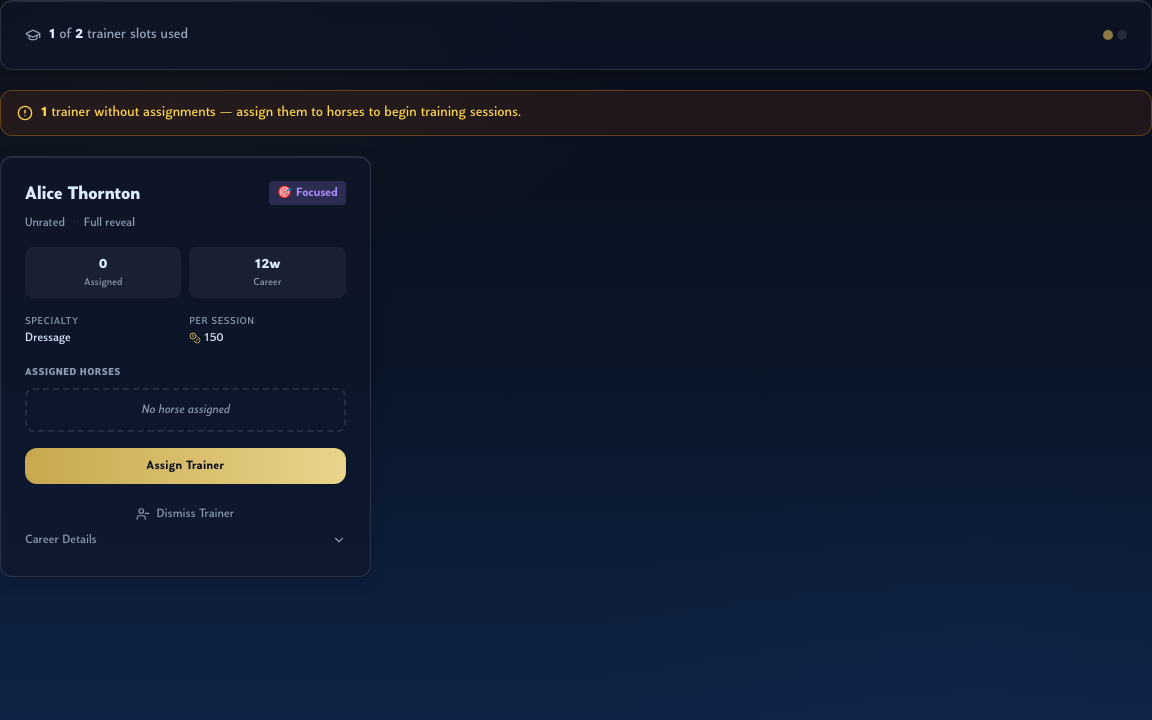
it: MyTrainersDashboard — horse picker (Equoria-gpnck) › a successful empty horses fetch is the honest "No horses available."
Step 1. Click the button "Assign Trainer" → (185, 466), box [25,448,346,484]
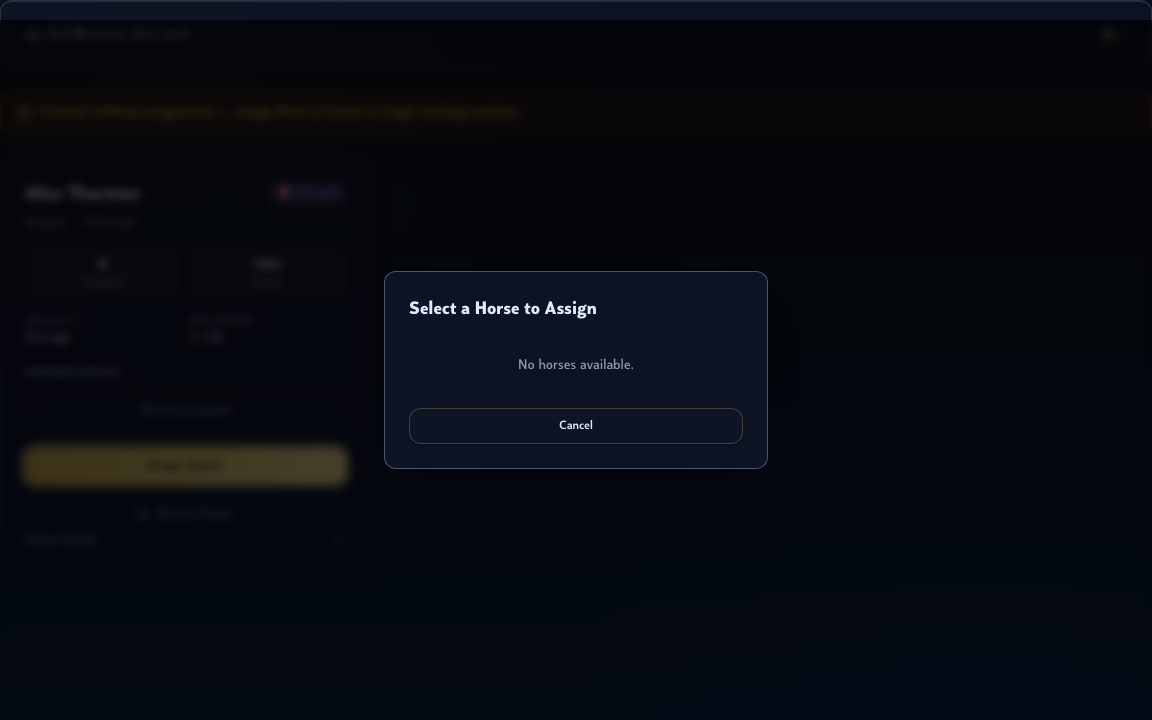
Check: the text "No horses available." is shown, box [518,358,634,373]
